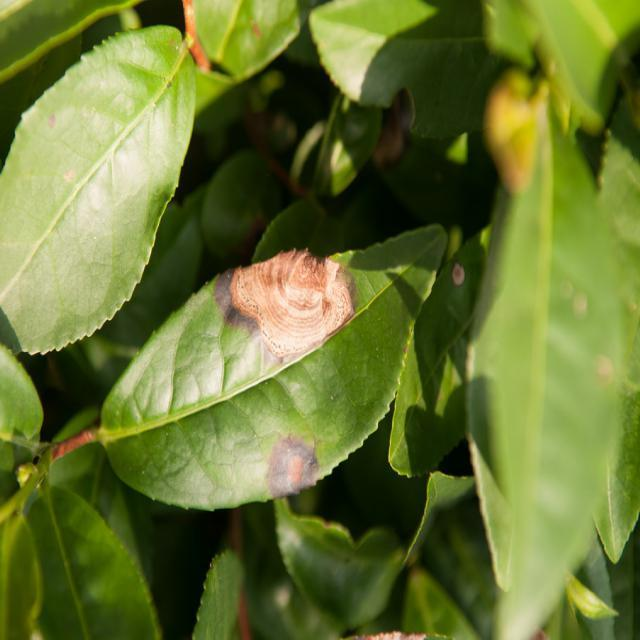Tea cloud leaf blight: (222, 244, 358, 354)
